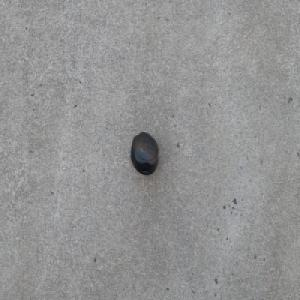FuelCap: (130, 131, 159, 176)
